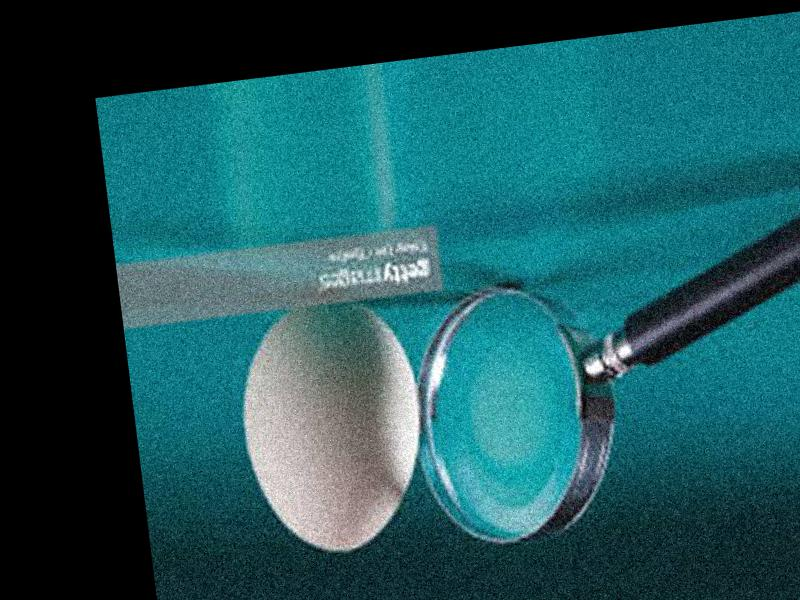Eggs: (229, 290, 436, 562)
